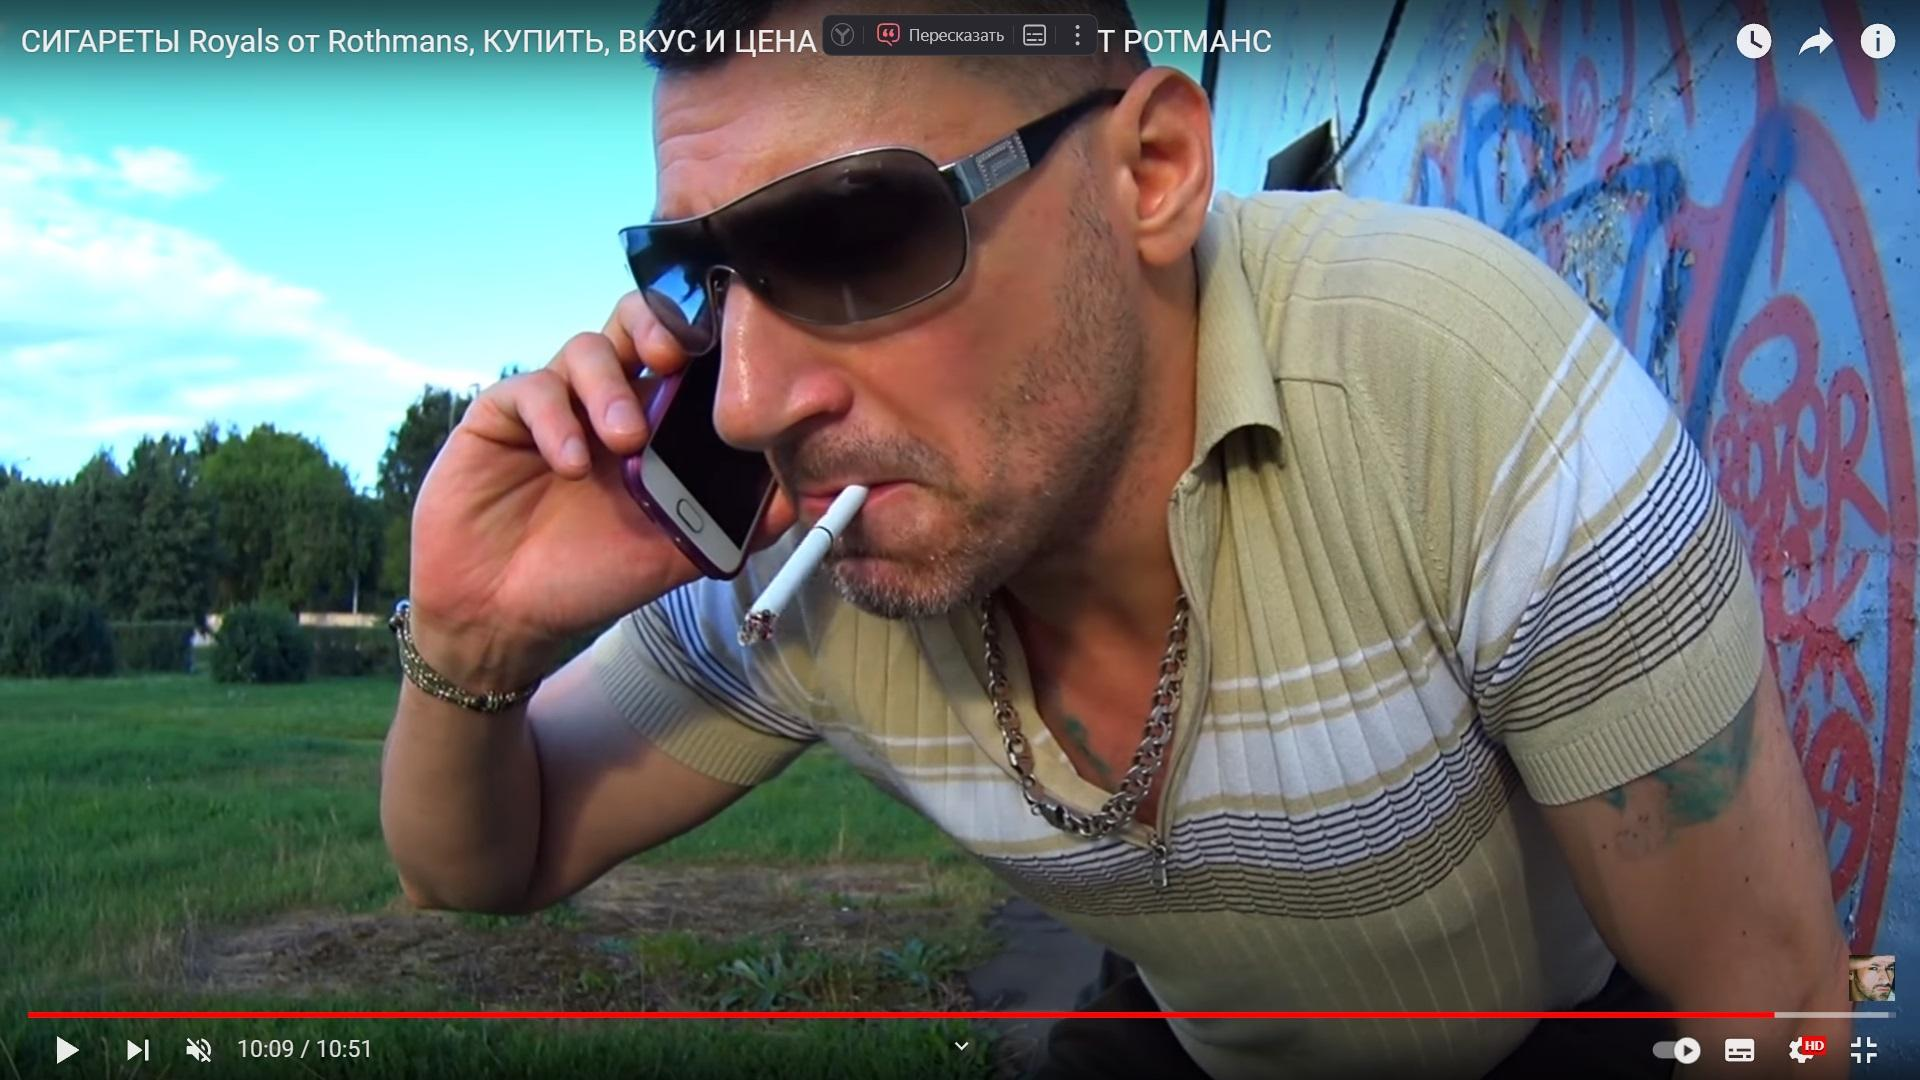cigarette: (737, 485, 870, 646)
